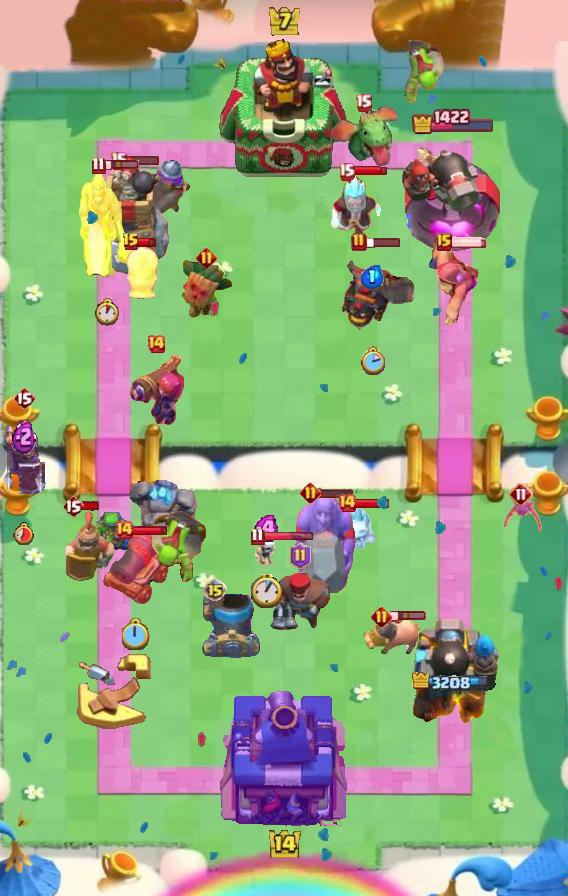archer-evolution: (329, 246, 415, 332)
archer-queen: (292, 491, 358, 603)
bar-level: (149, 506, 209, 582), (396, 40, 446, 106)
barbarian: (499, 496, 543, 536)
bat: (337, 507, 379, 551)
bomb-tower: (144, 160, 192, 222)
earthquake: (64, 511, 114, 583)
electro-spirit: (12, 418, 36, 454), (254, 515, 282, 542), (361, 265, 384, 289)
electro-wizard: (326, 104, 400, 170)
elixir: (251, 573, 283, 607), (122, 618, 150, 650), (95, 298, 122, 326), (360, 346, 385, 375), (13, 522, 35, 546)
elixir-golem-big: (0, 412, 48, 502)
emote: (262, 530, 314, 541), (355, 497, 390, 511), (450, 236, 488, 248), (104, 159, 141, 171), (390, 610, 427, 622), (352, 165, 388, 177), (365, 236, 401, 248), (318, 487, 354, 499), (132, 525, 169, 536), (124, 154, 160, 165), (83, 500, 102, 512), (138, 236, 157, 247)
executioner: (363, 613, 421, 657), (124, 243, 160, 303)
fireball: (424, 242, 484, 330)
freeze: (76, 168, 138, 280)
giant-snowball: (96, 512, 138, 552)
goblin-barrel: (178, 257, 234, 321)
heal-spirit: (253, 538, 281, 568)
king-tower: (214, 684, 354, 826), (218, 37, 350, 181)
mega-minion: (127, 353, 185, 427)
mortar: (327, 173, 389, 245)
musketeer: (202, 594, 262, 658)
phoenix-small: (267, 570, 333, 632)
royal-giant-evolution: (102, 531, 170, 605)
selected: (412, 109, 497, 136), (412, 672, 494, 694)
text: (509, 482, 533, 506), (203, 578, 227, 602), (289, 543, 311, 569), (13, 386, 35, 410), (62, 494, 84, 518), (195, 247, 217, 268), (300, 481, 321, 503), (371, 605, 392, 627), (146, 334, 166, 354), (337, 493, 357, 513), (114, 520, 134, 540), (122, 232, 140, 252), (355, 92, 373, 111), (337, 162, 355, 181), (109, 150, 126, 169), (351, 232, 367, 252), (436, 233, 452, 251), (250, 526, 265, 545), (91, 157, 105, 175)
tower-bar: (402, 136, 504, 256), (406, 611, 500, 731)
valkyrie-evolution: (129, 475, 201, 543)
zappy: (84, 160, 175, 276)
